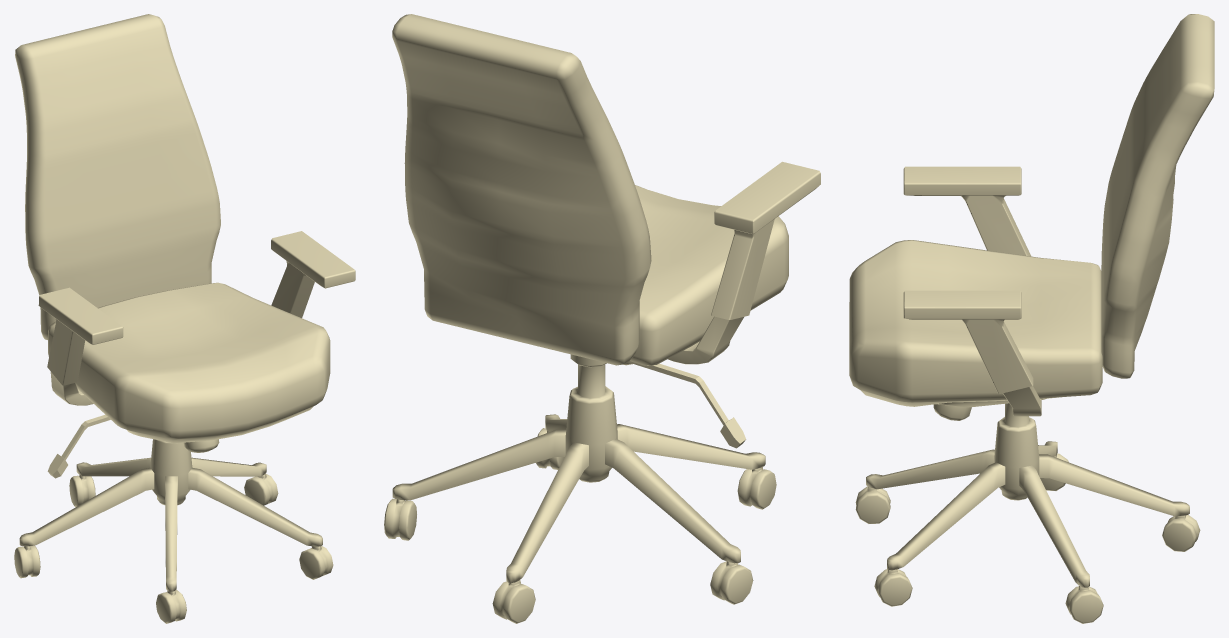
The model's file is computer_chair.fbx.
The picture shows the model from 3 angles, left to right: view 1: azimuth 30°, elevation 25°; view 2: azimuth 150°, elevation 25°; view 3: azimuth 270°, elevation 25°; orthographic projection. The views are drawn at different scales.
Parts seen in each view (by area): view 1: polySurface59; view 2: polySurface59; view 3: polySurface59.
Boxes of the visible parts, box(x1,y1,x2,y2) form: polySurface59: box(14, 14, 355, 623); polySurface59: box(384, 14, 820, 623); polySurface59: box(849, 14, 1214, 623).
Size of the model in its own units: 0.8972 by 1.46 by 0.9537.
